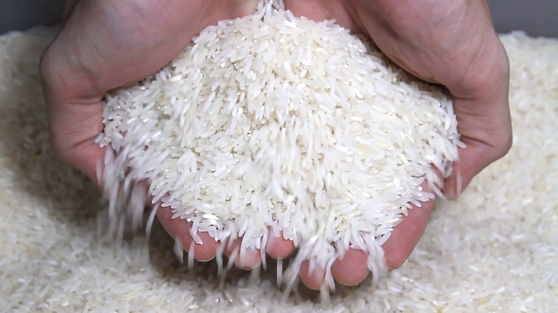rice: (153, 23, 420, 250)
